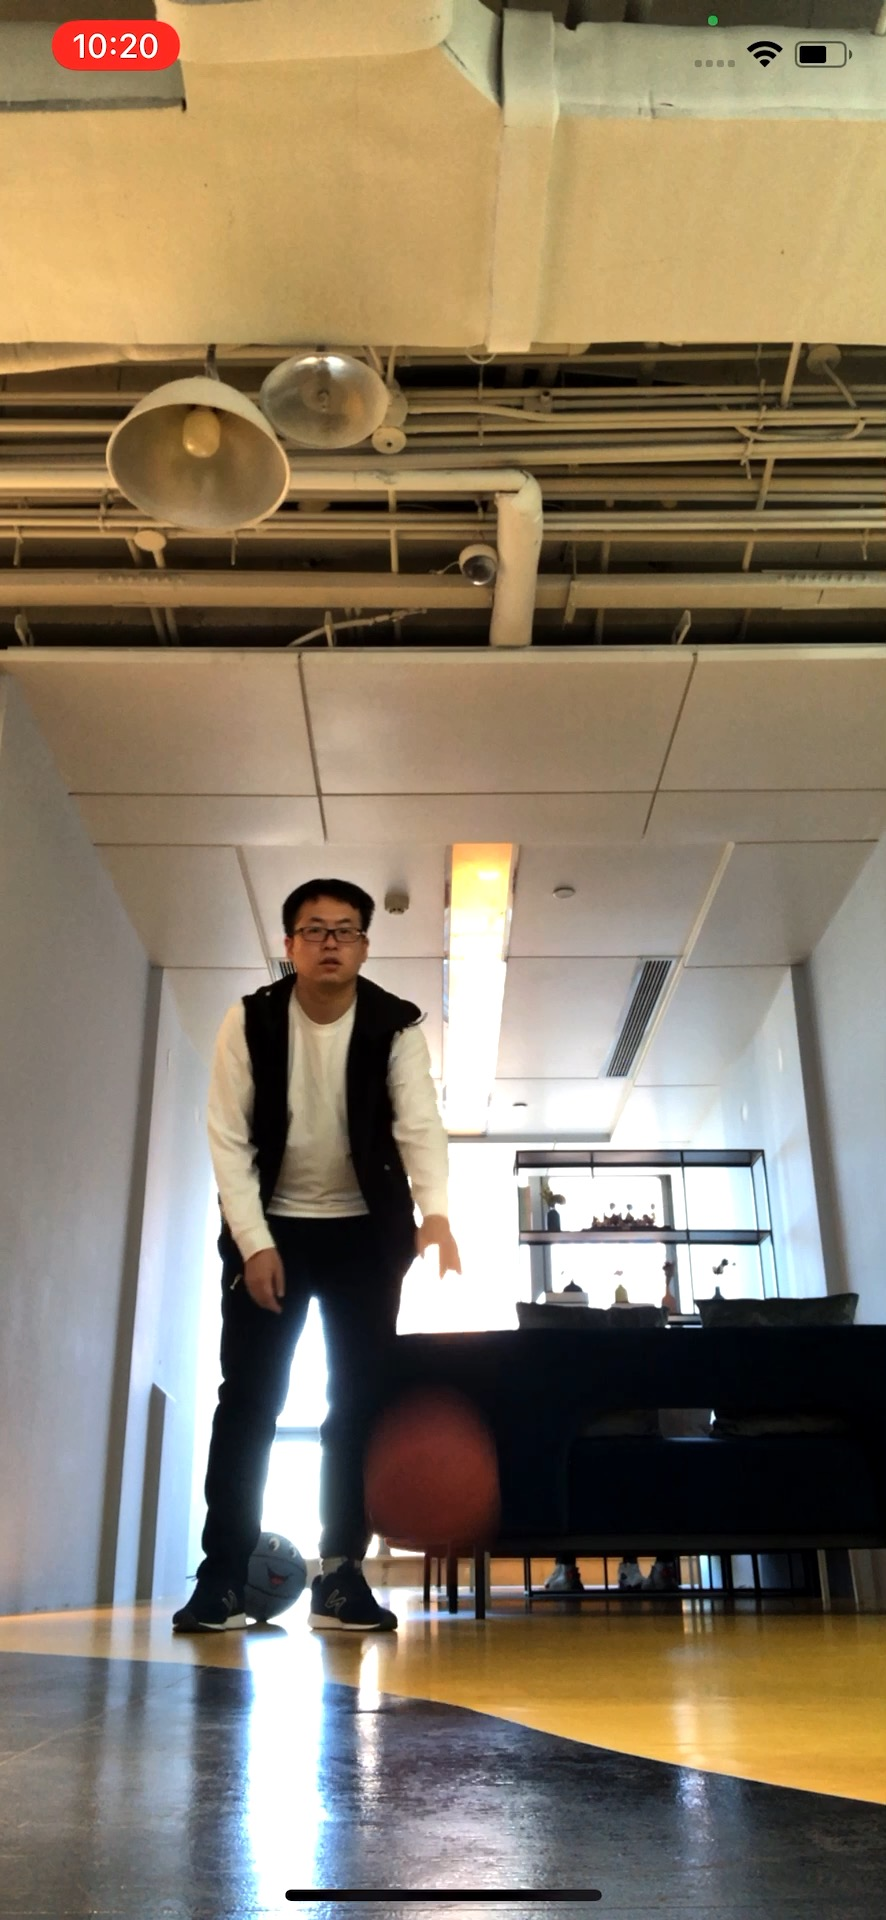ball: (357, 1412, 498, 1551)
